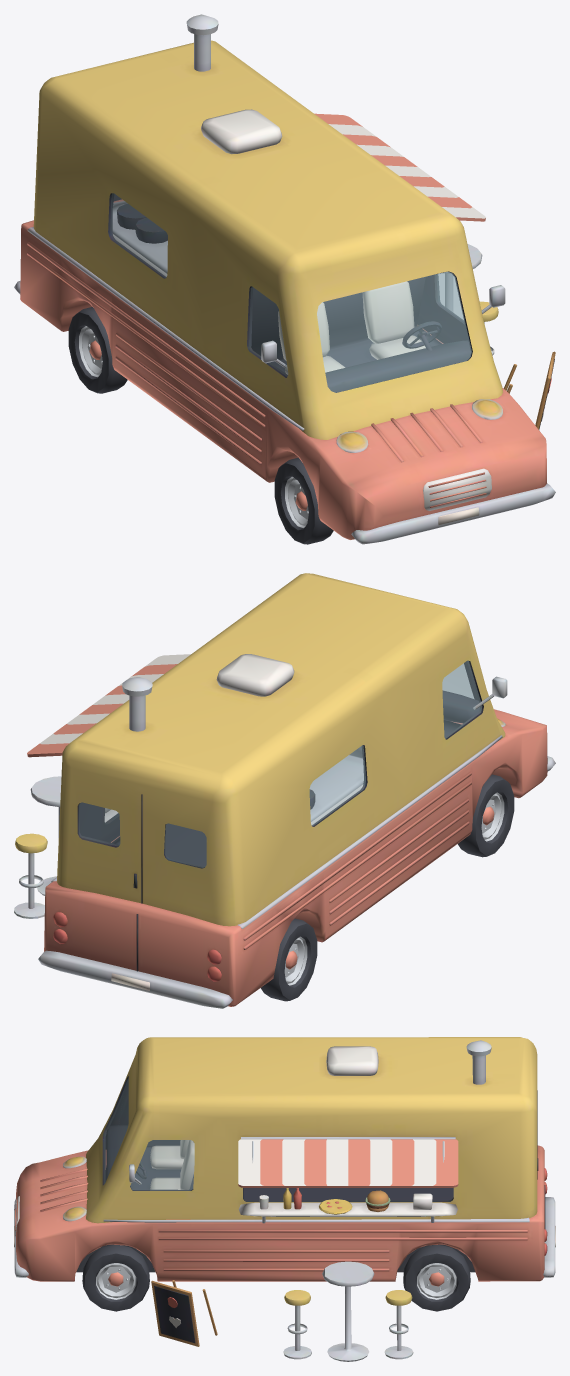
The model's file is n_foodtruck.glb.
3 renders of one model, top to bottom at view 1: azimuth 30°, elevation 25°; view 2: azimuth 150°, elevation 25°; view 3: azimuth 270°, elevation 25°, orthographic. The views are drawn at different scales.
Parts seen in each view (by area): view 1: food-truck_body, food-truck_windows, food-truck_hatch, food-truck_wheel_fr, food-truck_wheel_rr; view 2: food-truck_body, food-truck_windows, food-truck_wheel_rr, food-truck_wheel_fr, food-truck_hatch; view 3: food-truck_body, food-truck_hatch, food-truck_windows, food-truck_wheel_fl, food-truck_wheel_rl.
Boxes of the visible parts, x1,y1,x2,y2 form: food-truck_body: [14, 14, 555, 544]; food-truck_windows: [110, 193, 471, 392]; food-truck_hatch: [314, 113, 485, 221]; food-truck_wheel_fr: [274, 457, 333, 544]; food-truck_wheel_rr: [68, 307, 127, 393]; food-truck_body: [14, 573, 555, 1008]; food-truck_windows: [79, 661, 481, 867]; food-truck_wheel_rr: [261, 918, 317, 1001]; food-truck_wheel_fr: [458, 774, 514, 857]; food-truck_hatch: [27, 654, 190, 757]; food-truck_body: [14, 1037, 555, 1361]; food-truck_hatch: [238, 1139, 458, 1187]; food-truck_windows: [104, 1078, 194, 1190]; food-truck_wheel_fl: [82, 1245, 149, 1311]; food-truck_wheel_rl: [403, 1245, 470, 1311].
Size of the model in its own units: 3.77 by 3.26 by 6.42.
3 materials, 1 textured.
